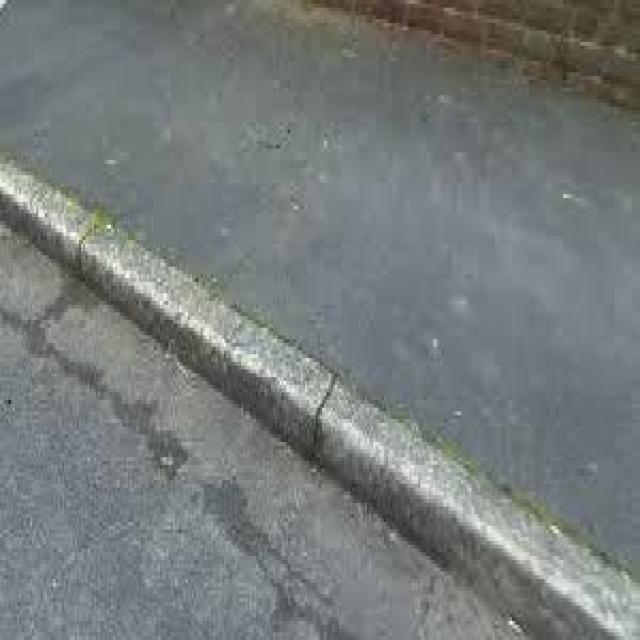curb: (152, 248, 323, 438), (1, 140, 127, 299)
